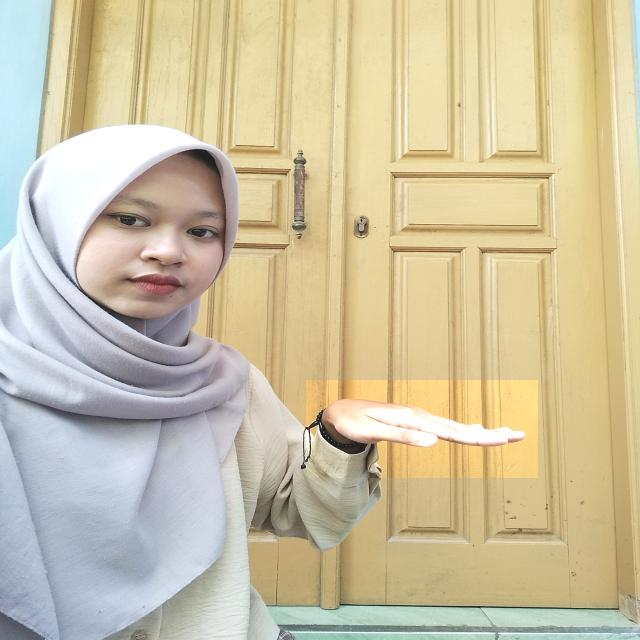adik: (306, 380, 538, 478)
